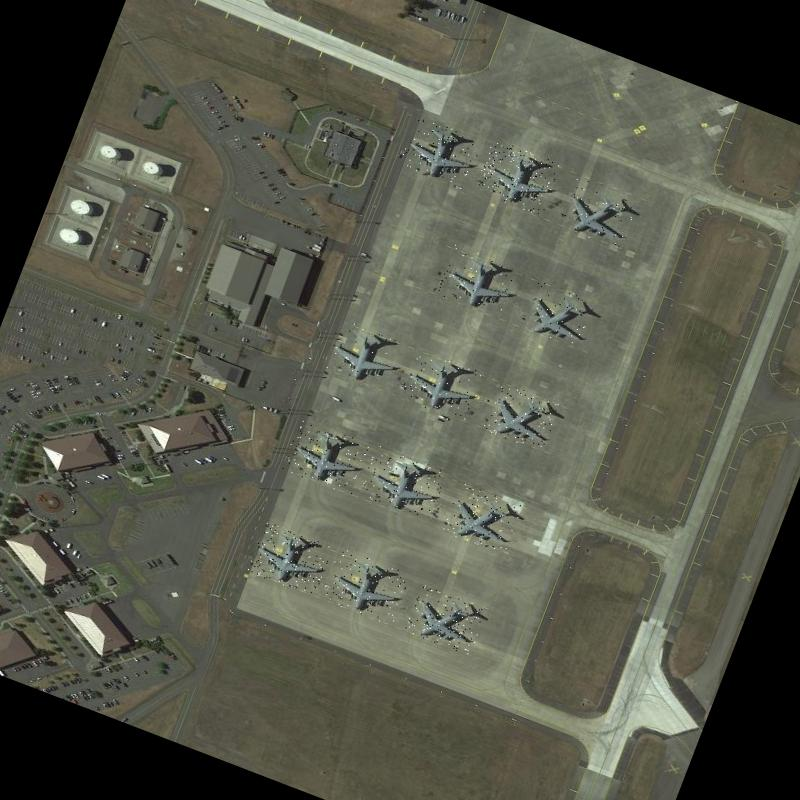A3: (320, 547, 412, 626), (358, 444, 448, 522), (280, 418, 370, 496), (473, 138, 561, 216), (398, 114, 485, 190), (246, 521, 333, 597), (435, 244, 520, 320), (558, 176, 640, 252), (322, 317, 406, 391), (398, 348, 482, 422), (440, 481, 522, 556), (404, 584, 486, 656), (482, 381, 560, 452), (520, 280, 596, 349)
